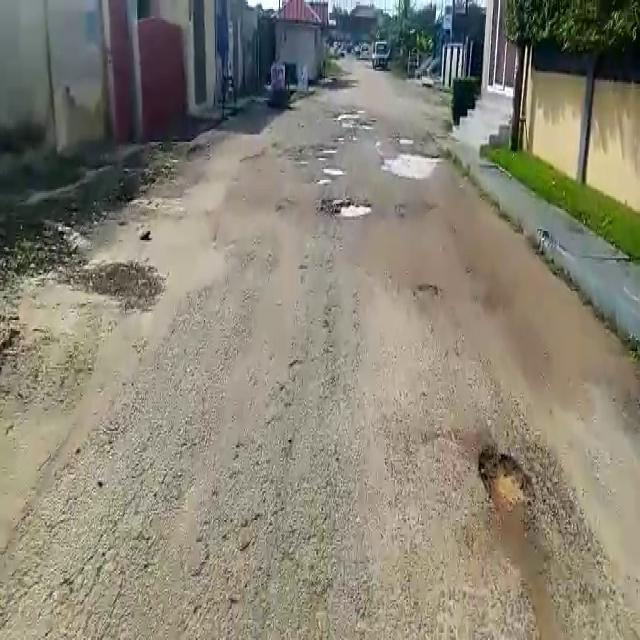pothole: (480, 447, 532, 510), (382, 148, 441, 177), (329, 200, 375, 219), (322, 163, 345, 176)
